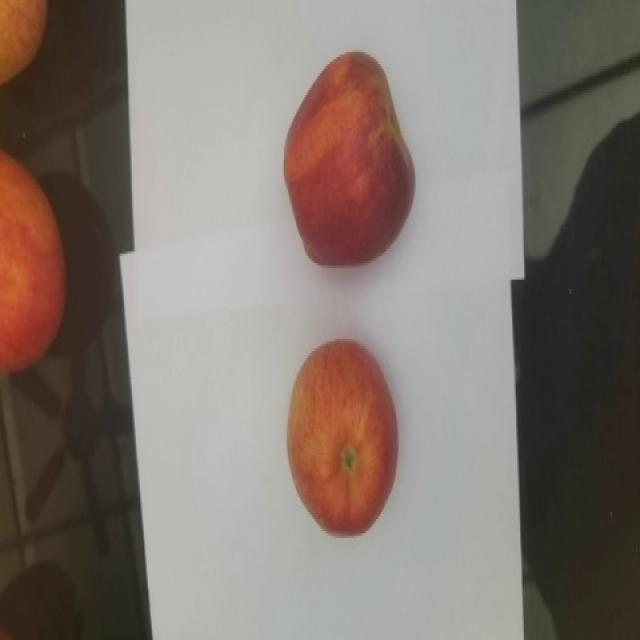Apple: (282, 49, 415, 266), (286, 338, 398, 537), (0, 148, 67, 375), (0, 0, 48, 86)
